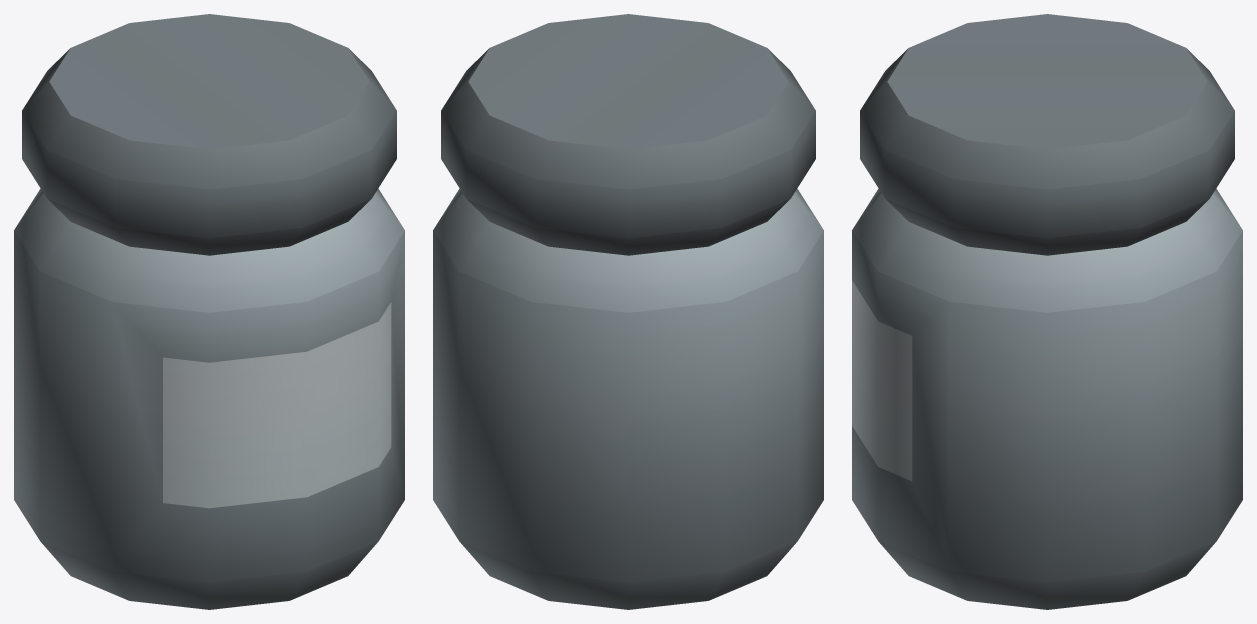
The model's file is jar_B_medium.glb.
3 views of the same model, side by side, from view 1: azimuth 30°, elevation 25°; view 2: azimuth 150°, elevation 25°; view 3: azimuth 270°, elevation 25° (orthographic).
Parts seen in each view (by area): view 1: jar_B_medium; view 2: jar_B_medium; view 3: jar_B_medium.
Part boxes in pixels (x1,y1,x2,y2): jar_B_medium: (14,14,404,609); jar_B_medium: (433,14,823,609); jar_B_medium: (852,14,1242,609).
Size of the model in its own units: 0.5 by 0.65 by 0.5.
Materials: 1 (1 with a texture image).
